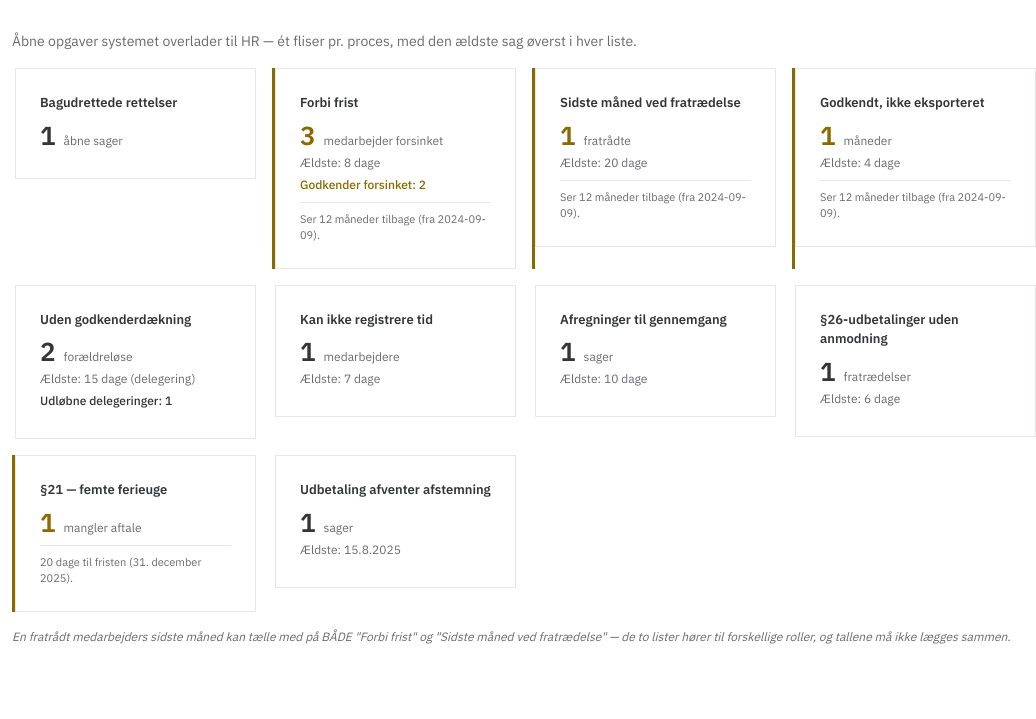
Test case: OpfoelgningPage — read-only lists (owner ruling OQ-4) › the settlement-reviews list states the action is handled via API and offers no form
Click the button with test id "tile-settlement-reviews" at (656, 351), box [560,310,751,392]
(page scrolled)
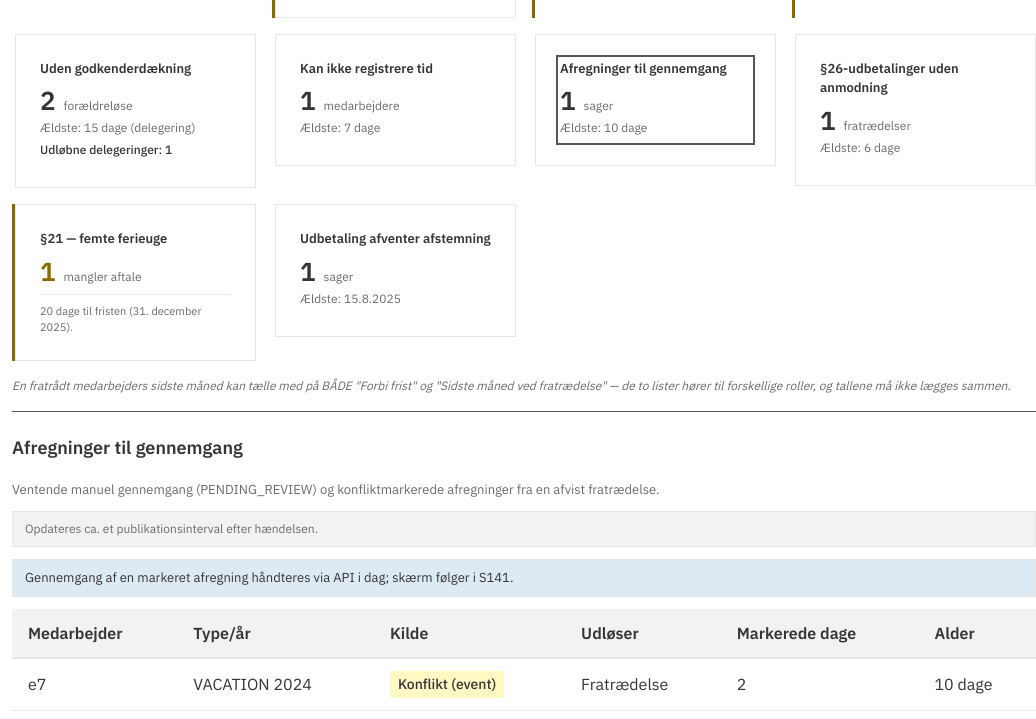
Check: the text with test id "list-settlement-reviews-action-note" shows "S141", box [248,569,514,586]
